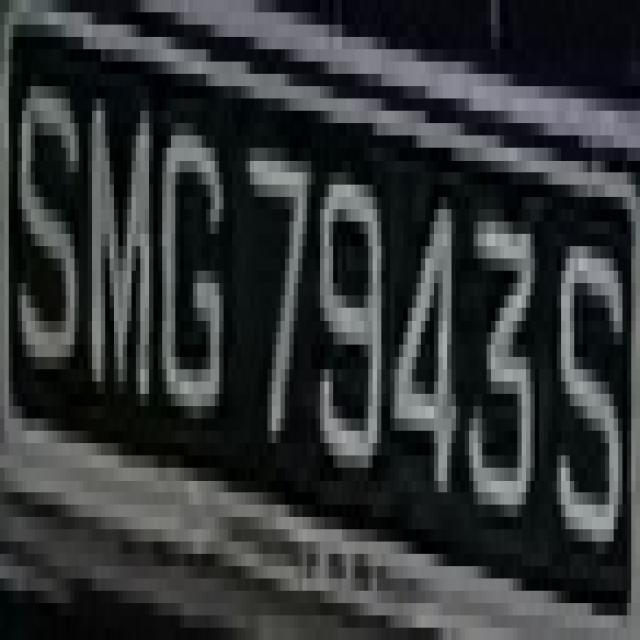3: (464, 172, 530, 530)
4: (399, 160, 482, 505)
7: (228, 110, 311, 504)
9: (316, 110, 394, 504)
G: (162, 87, 232, 456)
M: (66, 61, 153, 418)
S: (543, 184, 627, 578), (9, 12, 79, 431)
